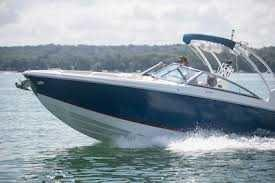kayak: (25, 34, 273, 150)
